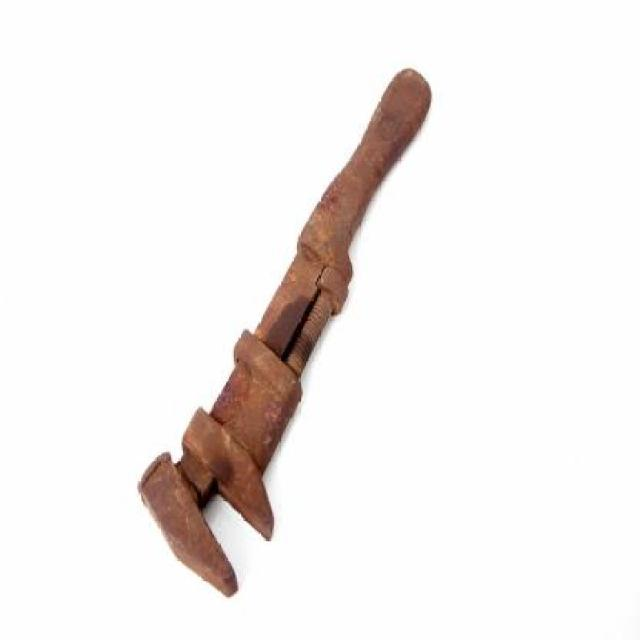corrosion: (136, 67, 442, 602)
